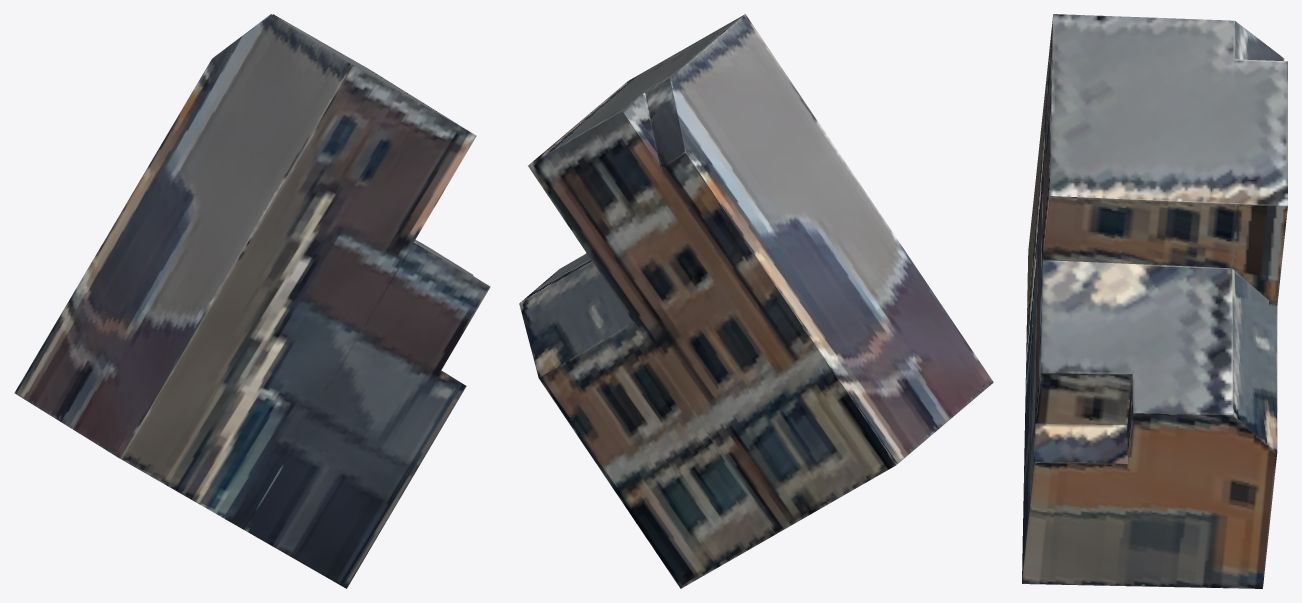
The picture shows the model from 3 angles, left to right: view 1: azimuth 30°, elevation 25°; view 2: azimuth 150°, elevation 25°; view 3: azimuth 270°, elevation 25°; orthographic projection. The views are drawn at different scales.
Visible parts, largest first — view 1: BAG_0599100000675909 (×3); view 2: BAG_0599100000675909 (×3); view 3: BAG_0599100000675909 (×3).
Boxes of the visible parts, left/top/right/bottom form: BAG_0599100000675909 (×3): left=14, top=14, right=490, bottom=588; BAG_0599100000675909 (×3): left=519, top=14, right=993, bottom=588; BAG_0599100000675909 (×3): left=1022, top=14, right=1287, bottom=588.
Bounding box in the file's own units: 14.48 × 17.76 × 7.26.
1 material, 1 textured.
